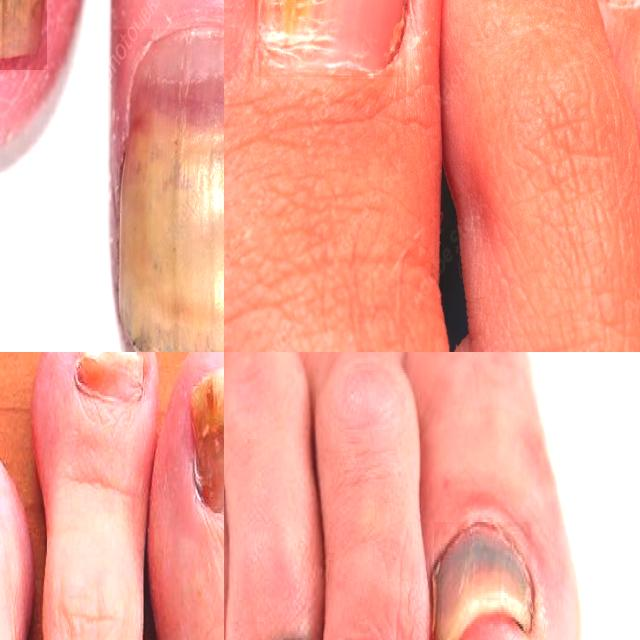diabetes: (118, 30, 224, 352), (255, 0, 406, 77), (435, 523, 532, 640), (189, 368, 224, 516), (75, 352, 144, 406)
